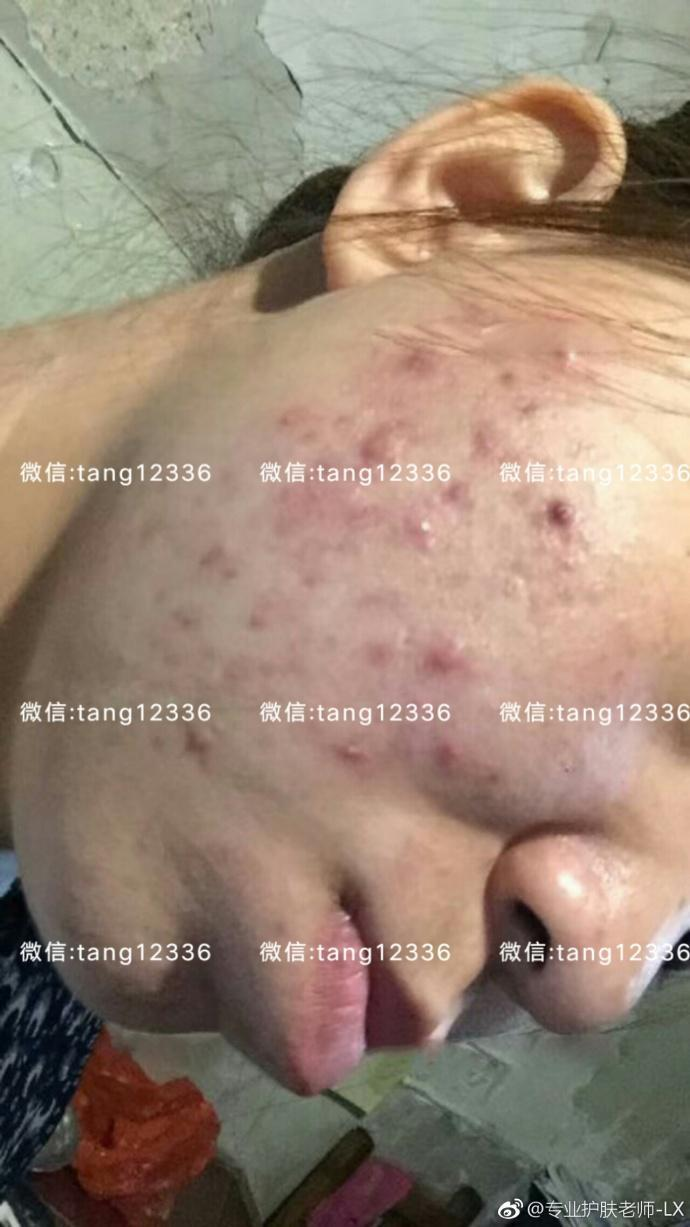fore: (536, 489, 617, 548), (359, 611, 413, 687), (323, 720, 386, 785), (147, 578, 217, 635), (253, 478, 310, 532), (397, 505, 451, 562), (277, 385, 329, 442), (174, 709, 228, 763), (280, 551, 353, 589), (500, 393, 555, 442), (443, 739, 487, 799), (419, 325, 462, 382), (533, 336, 595, 372), (424, 622, 470, 665), (451, 415, 503, 453), (430, 464, 481, 499), (182, 540, 239, 570), (231, 600, 274, 635), (481, 342, 517, 382), (364, 410, 391, 459), (332, 483, 372, 516)
